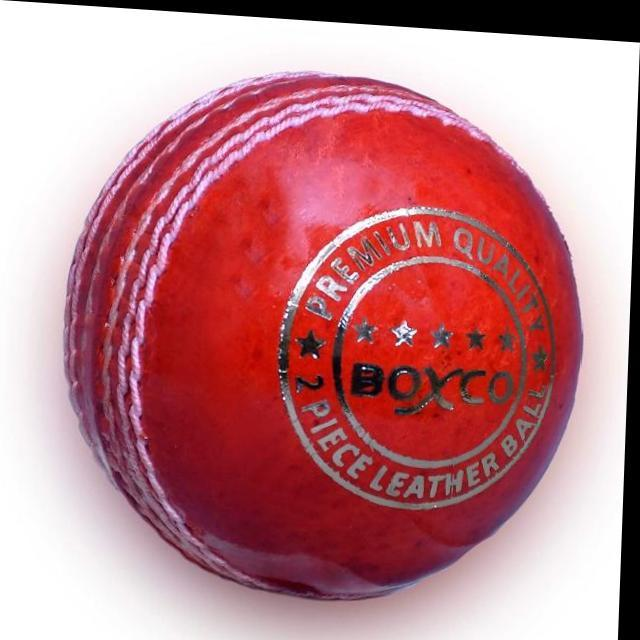cricket ball: (66, 66, 584, 596)
